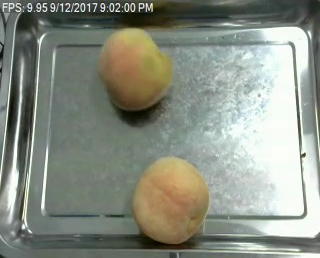Peach: (132, 156, 210, 245), (99, 27, 172, 110)
